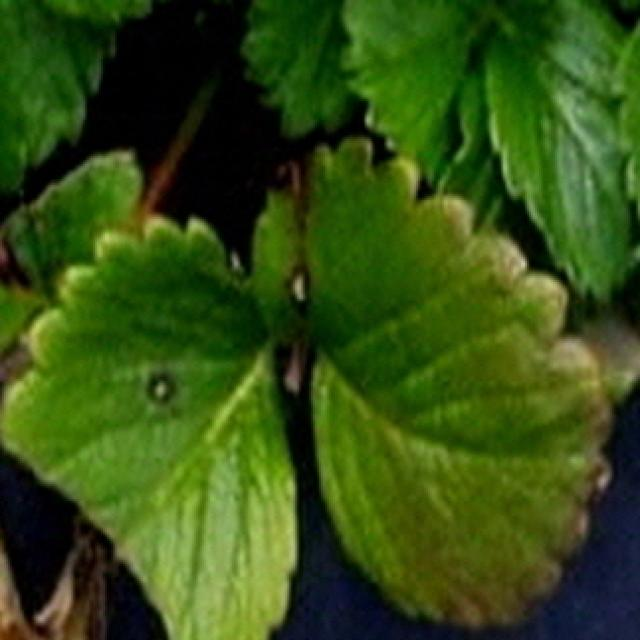Leaf Spot: (0, 215, 297, 640), (0, 149, 144, 387), (247, 190, 309, 399)
